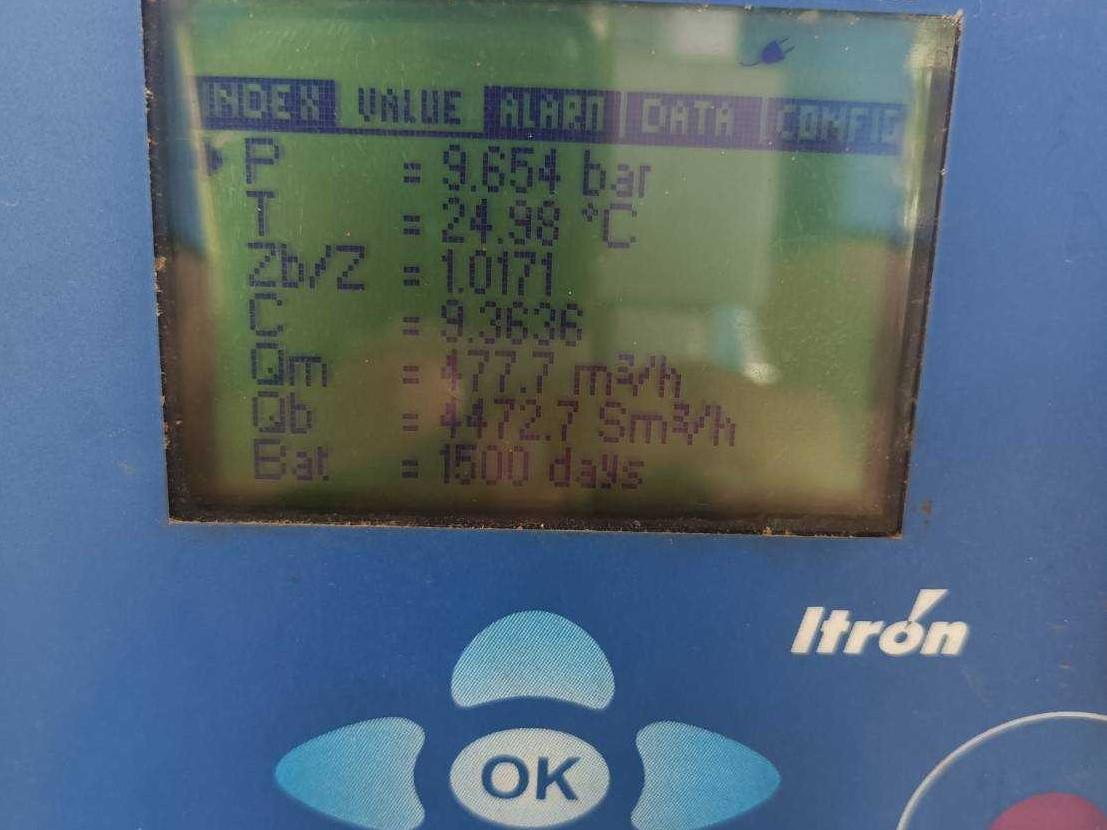digital_screen: (131, 0, 961, 539)
